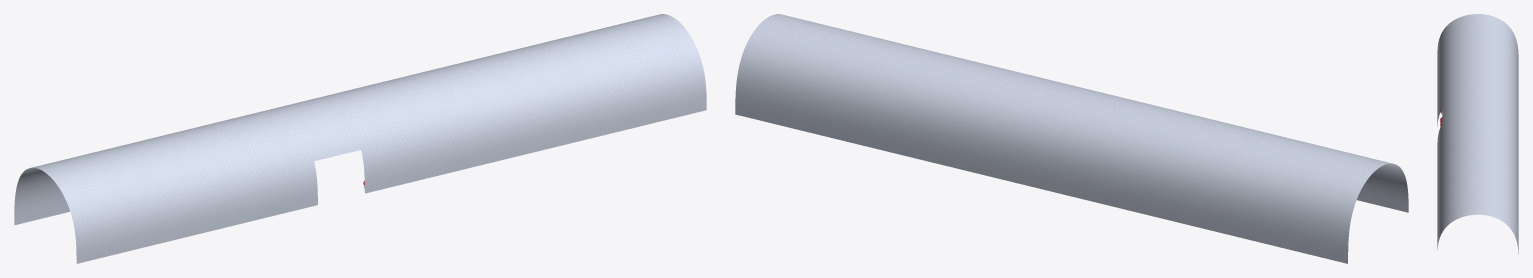
The model's file is paris_station.glb.
3 renders of one model, left to right at view 1: azimuth 30°, elevation 25°; view 2: azimuth 150°, elevation 25°; view 3: azimuth 270°, elevation 25°, orthographic. The views are drawn at different scales.
Parts seen in each view (by area): view 1: Station_Vault_Arch; view 2: Station_Vault_Arch; view 3: Station_Vault_Arch.
Part boxes in pixels (x1,y1,x2,y2): Station_Vault_Arch: (14, 14, 706, 263); Station_Vault_Arch: (735, 14, 1408, 263); Station_Vault_Arch: (1437, 14, 1518, 253).
Size of the model in its own units: 47 by 5.38 by 8.05.
3 materials, 1 textured.
